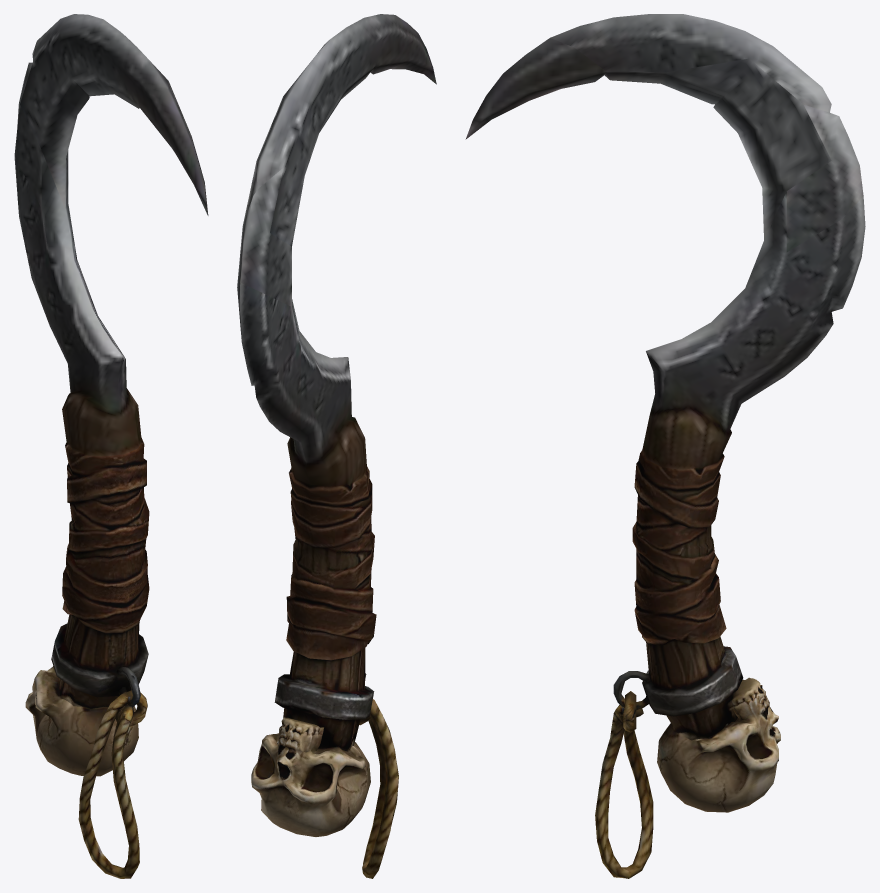
The model's file is necro_wpn_sickle.glb.
The picture shows the model from 3 angles, left to right: view 1: azimuth 30°, elevation 25°; view 2: azimuth 150°, elevation 25°; view 3: azimuth 270°, elevation 25°; orthographic projection. The views are drawn at different scales.
Parts seen in each view (by area): view 1: tripo_node_9f875064-2449-4866-a763-fdff6db26e75; view 2: tripo_node_9f875064-2449-4866-a763-fdff6db26e75; view 3: tripo_node_9f875064-2449-4866-a763-fdff6db26e75.
Boxes of the visible parts, x1,y1,x2,y2 form: tripo_node_9f875064-2449-4866-a763-fdff6db26e75: (14,14,208,878); tripo_node_9f875064-2449-4866-a763-fdff6db26e75: (237,14,436,878); tripo_node_9f875064-2449-4866-a763-fdff6db26e75: (465,14,865,878).
Bounding box in the file's own units: 0.1192 × 0.998 × 0.416.
1 material, 1 textured.
